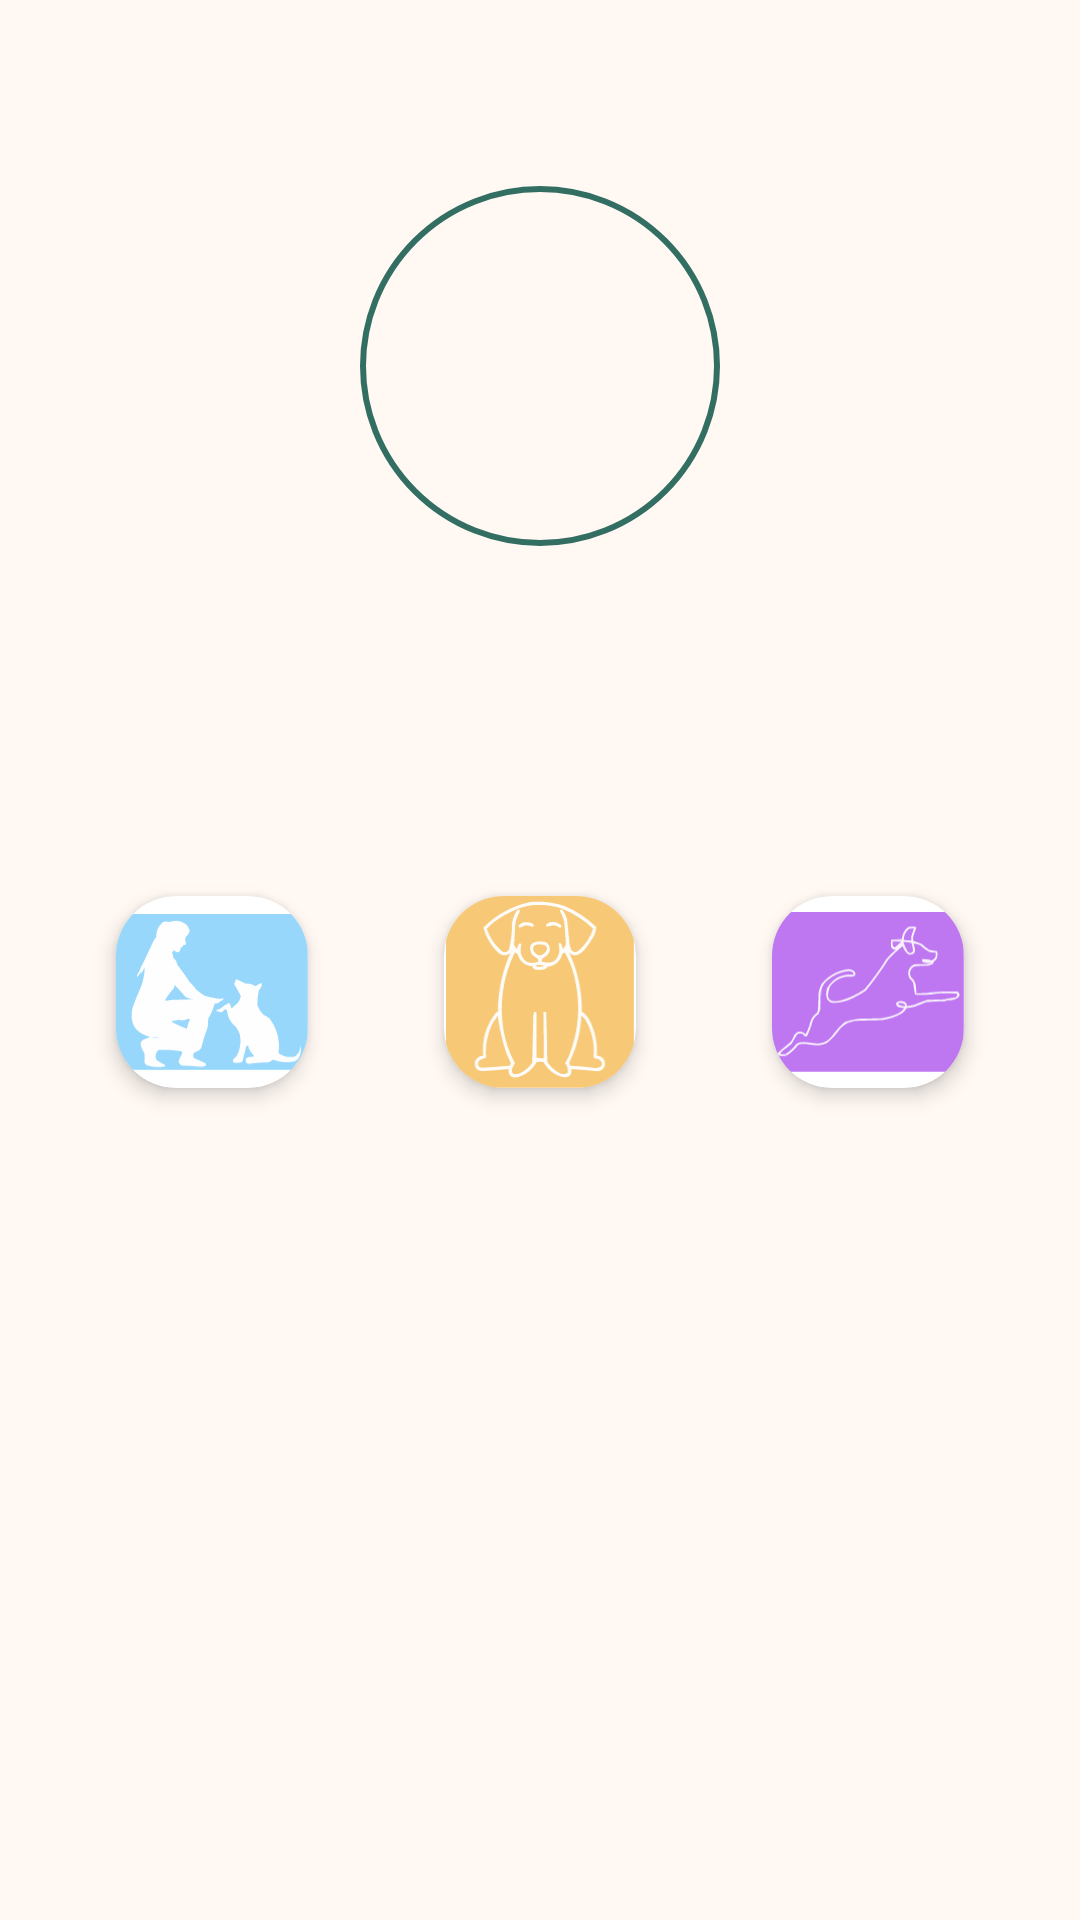

Named icons in this screenshot (1080 × 1920) and their bounding boxes, (x1, y1, x2, y2):
energetic: (772, 912, 964, 1088)
friendly: (116, 914, 308, 1088)
